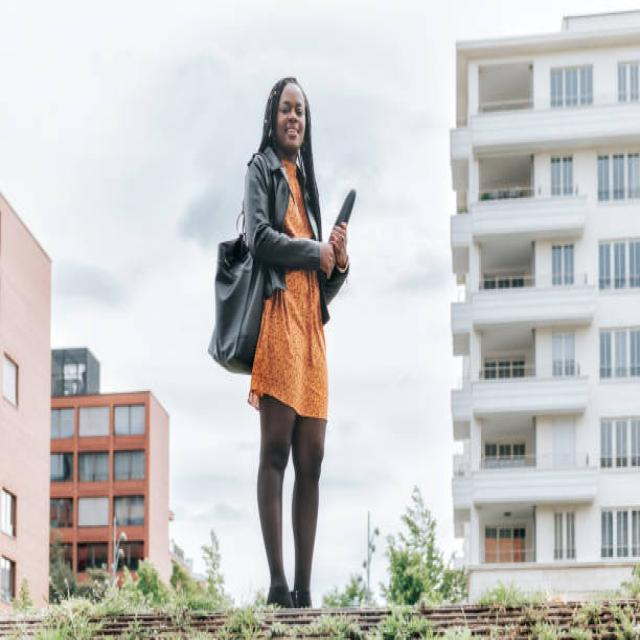Real human 2: (205, 61, 371, 623)
